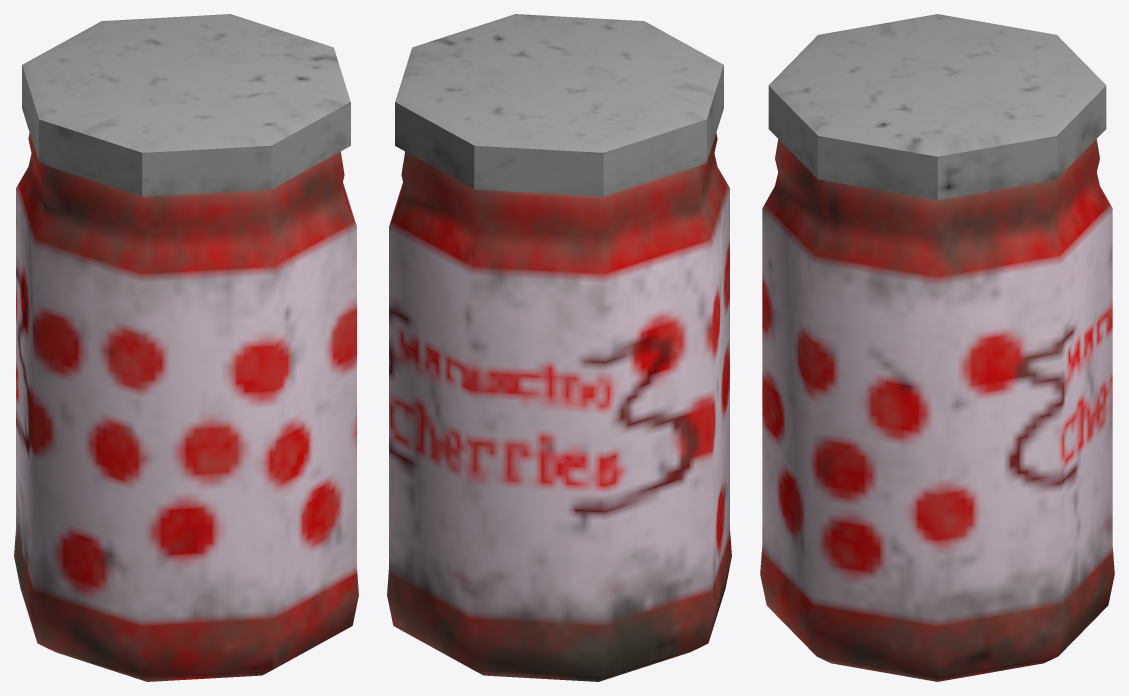
The model's file is Jar.fbx.
3 renders of one model, left to right at view 1: azimuth 30°, elevation 25°; view 2: azimuth 150°, elevation 25°; view 3: azimuth 270°, elevation 25°, orthographic.
Parts seen in each view (by area): view 1: oliveJar; view 2: oliveJar; view 3: oliveJar.
Part boxes in pixels (x1=…): oliveJar: x1=14, y1=14, x2=358, y2=681; oliveJar: x1=387, y1=14, x2=731, y2=681; oliveJar: x1=760, y1=14, x2=1114, y2=681.
Bounding box in the file's own units: 0.2216 × 0.3696 × 0.2216.
